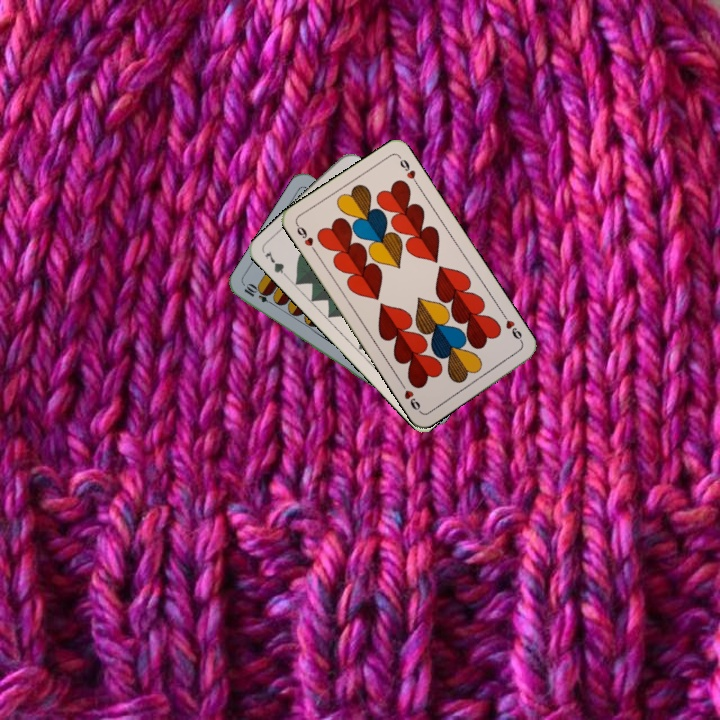E10: (240, 281, 278, 308)
G7: (261, 247, 292, 282)
H9: (292, 220, 319, 256), (499, 310, 526, 346)
